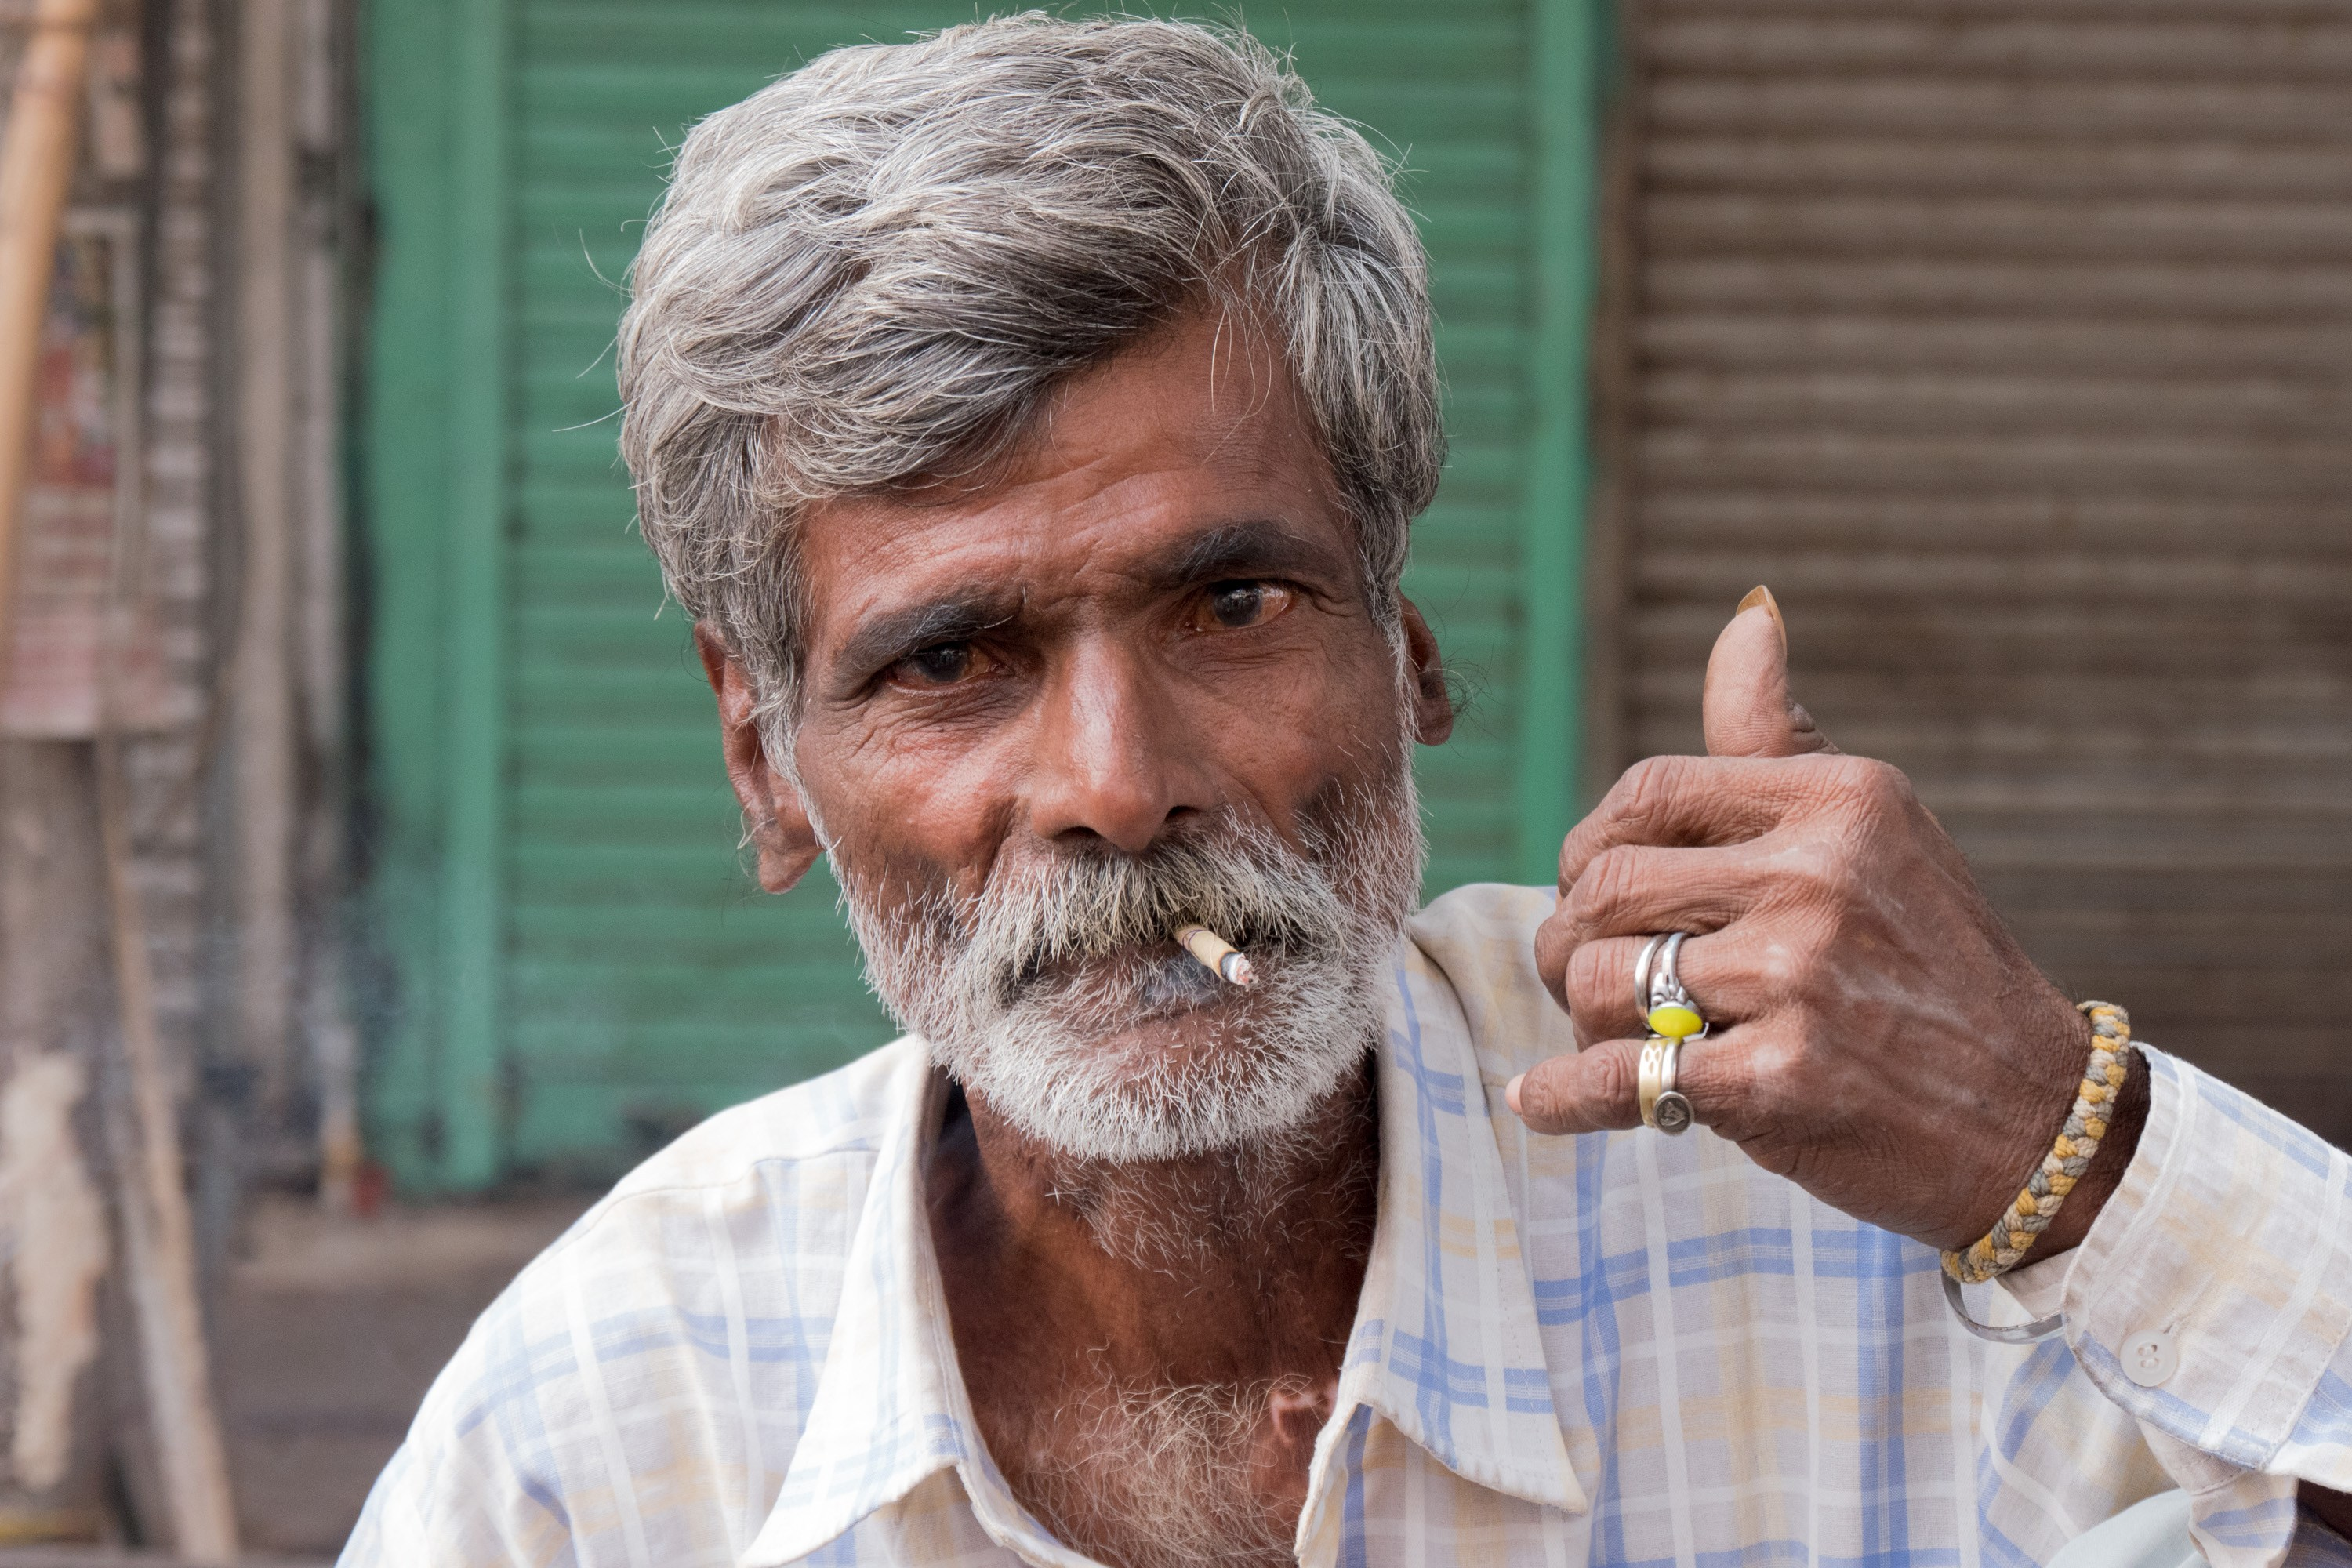cigarette: (1141, 896, 1263, 1010)
